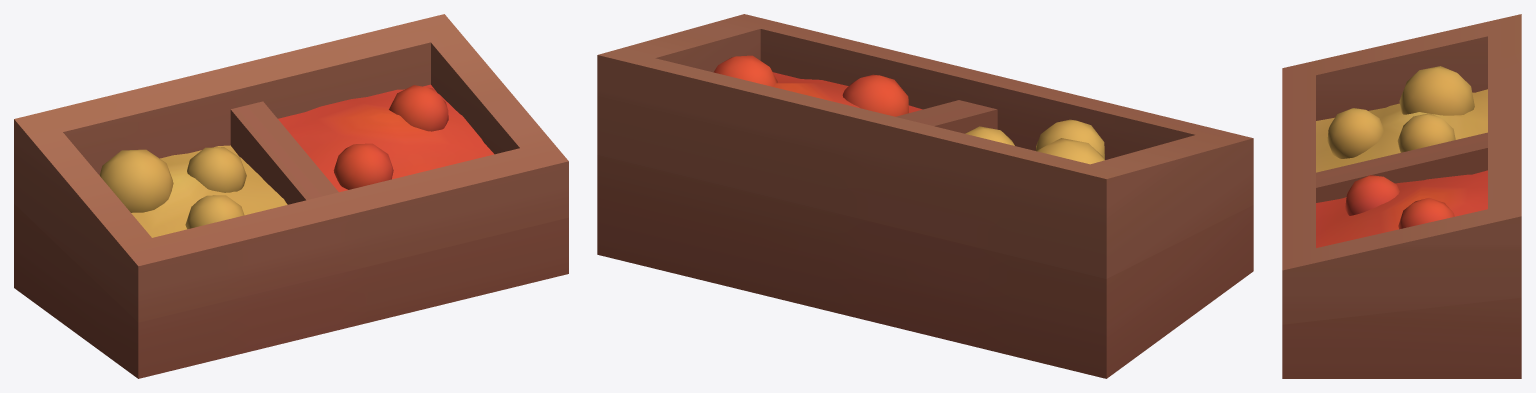
File: crate_long_A.glb
3 renders of one model, left to right at view 1: azimuth 30°, elevation 25°; view 2: azimuth 150°, elevation 25°; view 3: azimuth 270°, elevation 25°, orthographic. The views are drawn at different scales.
Visible parts, largest first — view 1: crate_long_A; view 2: crate_long_A; view 3: crate_long_A.
Part boxes in pixels (x1,y1,x2,y2): crate_long_A: (14,14,568,378); crate_long_A: (597,14,1253,378); crate_long_A: (1282,14,1521,378).
Size of the model in its own units: 0.4 by 0.15 by 0.2.
Materials: 1 (1 with a texture image).
